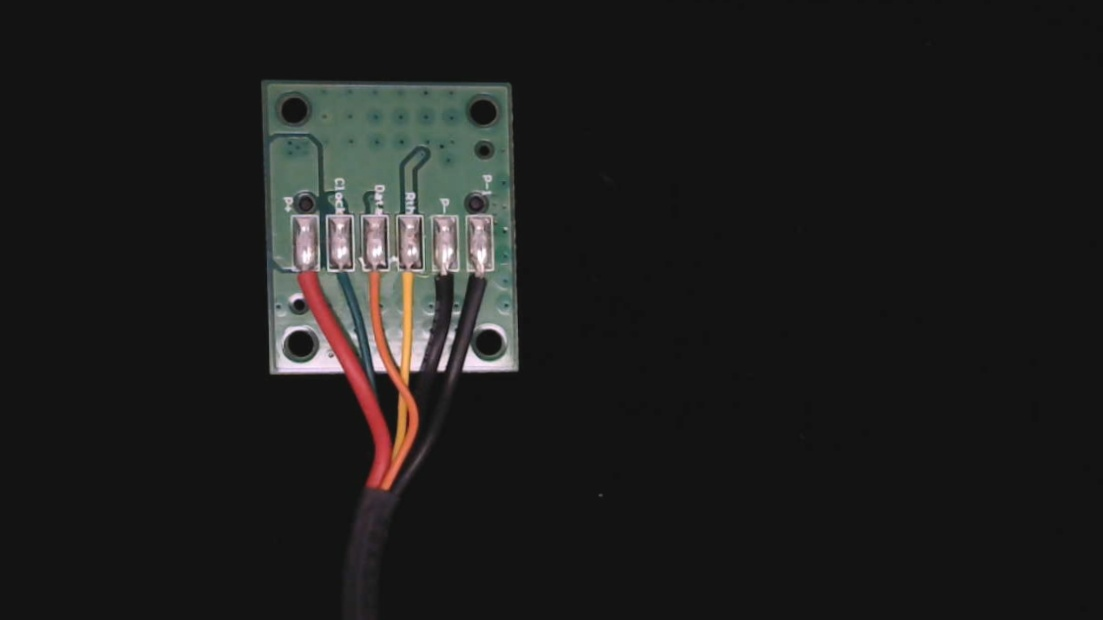Black: (428, 254, 462, 320)
Black1: (465, 254, 495, 307)
Green: (326, 256, 360, 310)
Orange: (360, 256, 390, 309)
Red: (292, 256, 323, 310)
Yellow: (394, 256, 426, 309)
